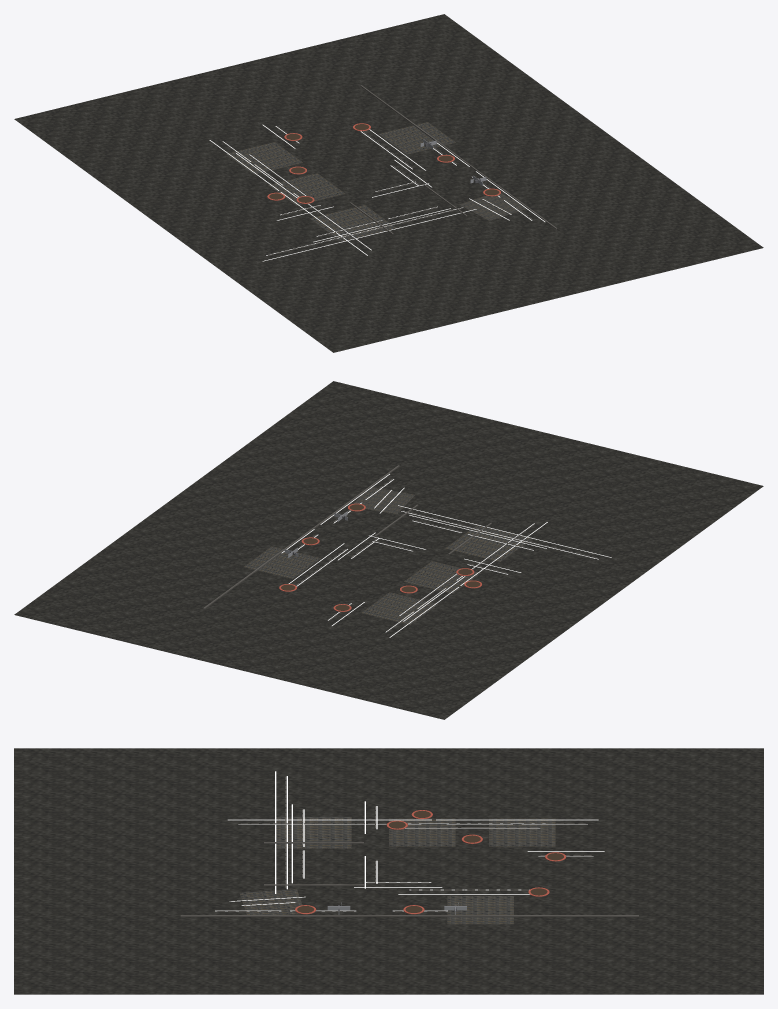
The model's file is ground.glb.
3 views of the same model, one above another, from view 1: azimuth 30°, elevation 25°; view 2: azimuth 150°, elevation 25°; view 3: azimuth 270°, elevation 25° (orthographic). The views are drawn at different scales.
Visible parts, largest first — view 1: Asphalt, StallPatch_0, StallPatch_2, StallPatch_4, StallPatch_1, StallPatch_3; view 2: Asphalt, StallPatch_0, StallPatch_2, StallPatch_4, StallPatch_1, StallPatch_3; view 3: Asphalt, StallPatch_0, StallPatch_2, StallPatch_1, StallPatch_4, StallPatch_3, Curb.
Boxes of the visible parts, bbox=[...] form: Asphalt: bbox=[14, 14, 763, 352]; StallPatch_0: bbox=[310, 205, 396, 241]; StallPatch_2: bbox=[226, 142, 302, 174]; StallPatch_4: bbox=[379, 122, 455, 154]; StallPatch_1: bbox=[268, 173, 345, 205]; StallPatch_3: bbox=[459, 193, 526, 220]; Asphalt: bbox=[14, 381, 763, 719]; StallPatch_0: bbox=[445, 525, 531, 561]; StallPatch_2: bbox=[361, 592, 438, 624]; StallPatch_4: bbox=[244, 546, 320, 578]; StallPatch_1: bbox=[404, 561, 480, 593]; StallPatch_3: bbox=[353, 487, 415, 513]; Asphalt: bbox=[14, 748, 763, 994]; StallPatch_0: bbox=[276, 817, 351, 848]; StallPatch_2: bbox=[489, 818, 555, 846]; StallPatch_1: bbox=[389, 818, 455, 846]; StallPatch_4: bbox=[447, 896, 513, 924]; StallPatch_3: bbox=[239, 889, 302, 914]; Curb: bbox=[180, 915, 638, 916].
Bounding box in the file's own units: 140 × 1.16 × 180.
9 materials, 3 textured.
